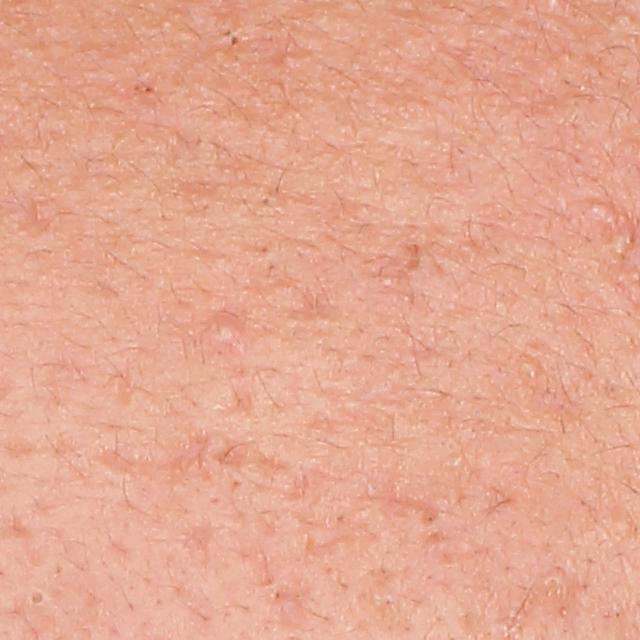atrophic_scar: (215, 441, 303, 477), (179, 515, 231, 564), (93, 449, 163, 485), (370, 494, 447, 526), (300, 528, 364, 566), (213, 393, 251, 423), (0, 519, 35, 540)
comedo: (28, 586, 49, 607)
papule: (10, 197, 59, 241), (206, 314, 242, 346)
